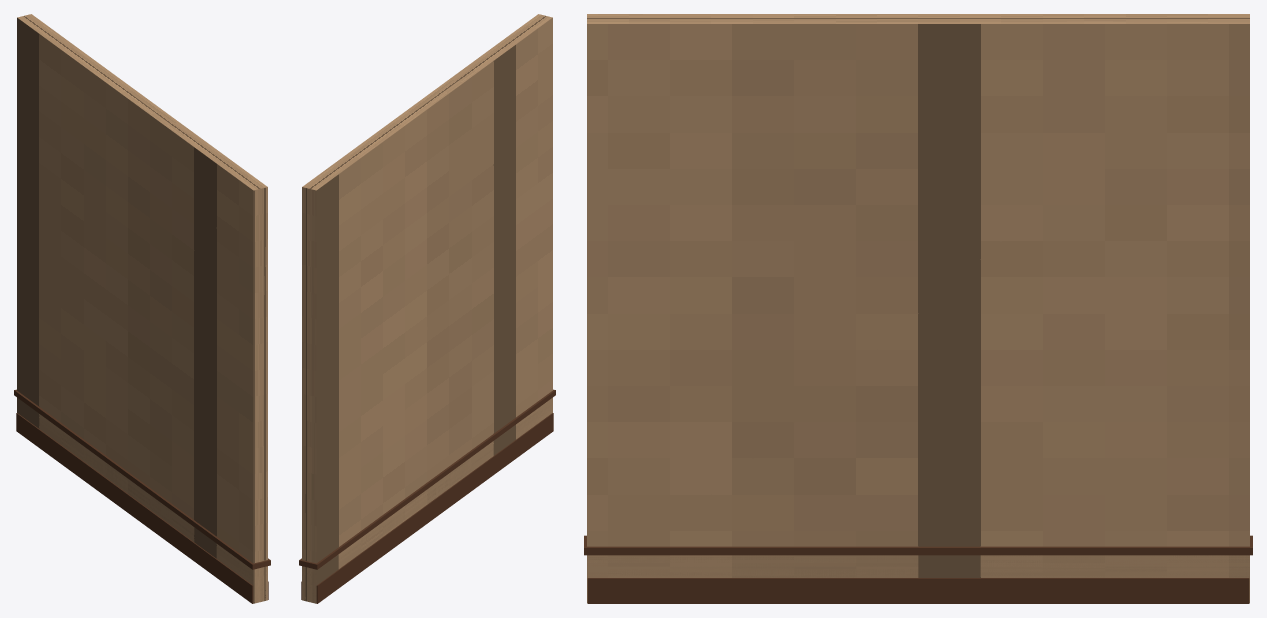
The model's file is stair_side.glb.
The picture shows the model from 3 angles, left to right: view 1: azimuth 30°, elevation 25°; view 2: azimuth 150°, elevation 25°; view 3: azimuth 270°, elevation 25°; orthographic projection. The views are drawn at different scales.
Visible parts, largest first — view 1: Box1, Box2, Box3, Box4; view 2: Box1, Box2, Box3, Box4; view 3: Box1, Box2, Box3, Box4.
Part boxes in pixels (x1,y1,x2,y2): Box1: [17, 14, 267, 603]; Box2: [16, 413, 268, 603]; Box3: [17, 398, 267, 602]; Box4: [14, 389, 270, 569]; Box1: [302, 14, 552, 603]; Box2: [301, 413, 553, 603]; Box3: [302, 398, 552, 602]; Box4: [299, 389, 555, 569]; Box1: [587, 14, 1249, 603]; Box2: [587, 578, 1249, 603]; Box3: [587, 555, 1249, 602]; Box4: [584, 535, 1252, 555].
Bounding box in the file's own units: 0.19 × 4.1 × 4.29.
Materials: 2 (1 with a texture image).
